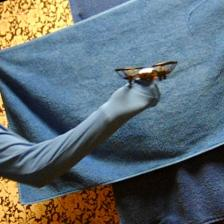drone: (116, 60, 182, 86)
